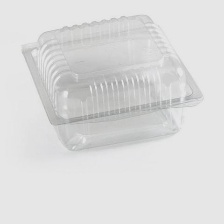plastic_box: (14, 6, 212, 157)
